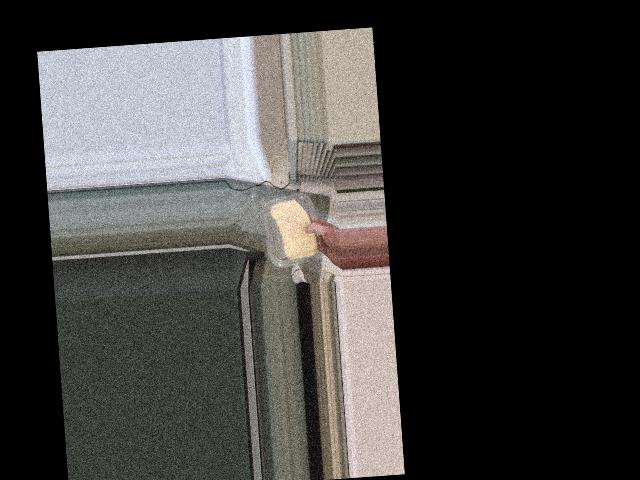cheese: (266, 193, 322, 267)
